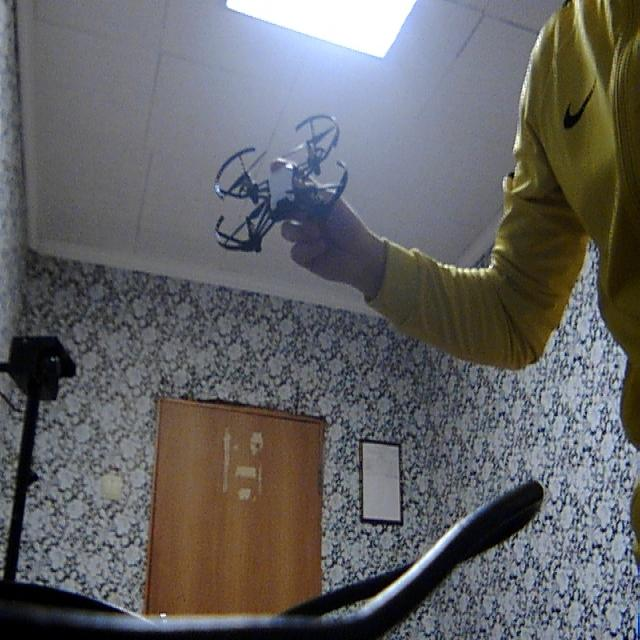drone: (205, 104, 372, 272)
